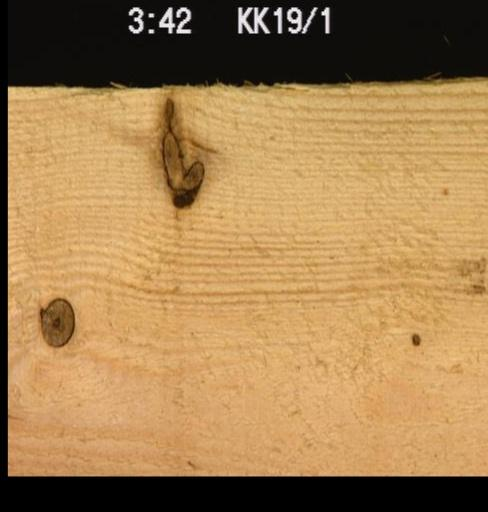dry_knot: (36, 295, 74, 347)
small_knot: (407, 329, 421, 346)
